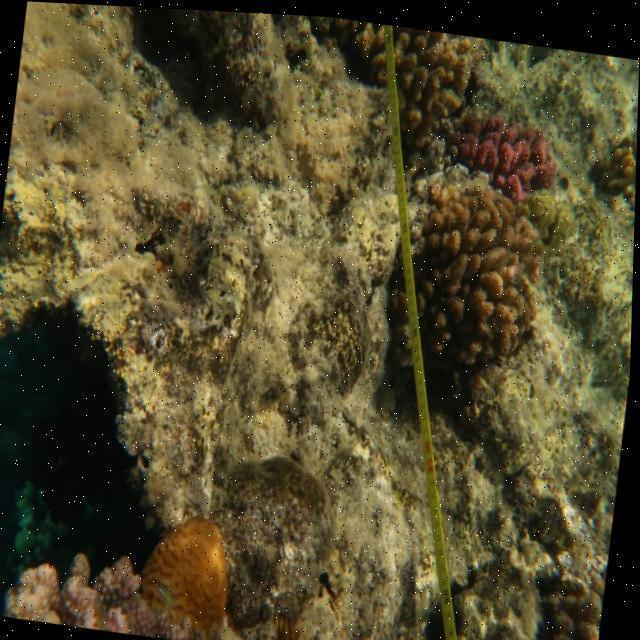Healthy Coral: (413, 186, 536, 391), (135, 505, 246, 640), (448, 91, 560, 198)
